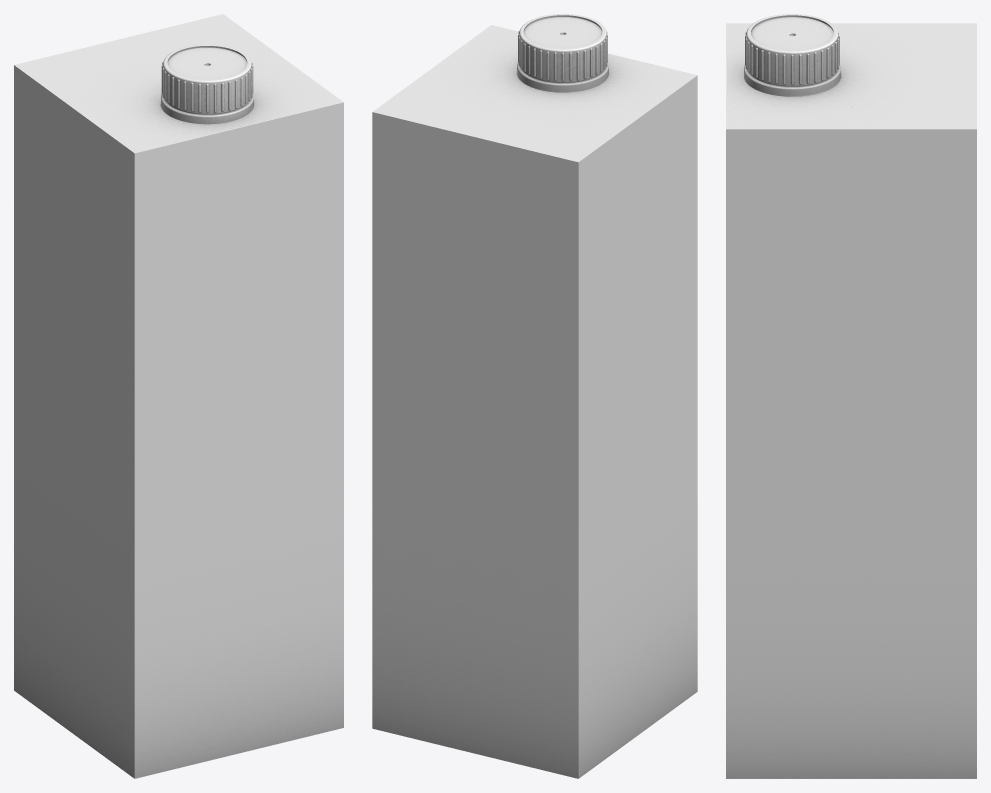
The model's file is envase_leche-saborizada.fbx.
The picture shows the model from 3 angles, left to right: view 1: azimuth 30°, elevation 25°; view 2: azimuth 150°, elevation 25°; view 3: azimuth 270°, elevation 25°; orthographic projection. The views are drawn at different scales.
Visible parts, largest first — view 1: Estuche_leche_1, lecheok_obj_2; view 2: Estuche_leche_1, lecheok_obj_2; view 3: Estuche_leche_1, lecheok_obj_2.
Boxes of the visible parts, <box> form: Estuche_leche_1: <box>14,14,343,778</box>; lecheok_obj_2: <box>161,44,253,124</box>; Estuche_leche_1: <box>372,25,697,778</box>; lecheok_obj_2: <box>517,14,608,92</box>; Estuche_leche_1: <box>726,23,976,778</box>; lecheok_obj_2: <box>744,14,840,96</box>.
Size of what is drawn, in the model's own units: 7 by 21.34 by 7.
Materials: 2 (2 with a texture image).
